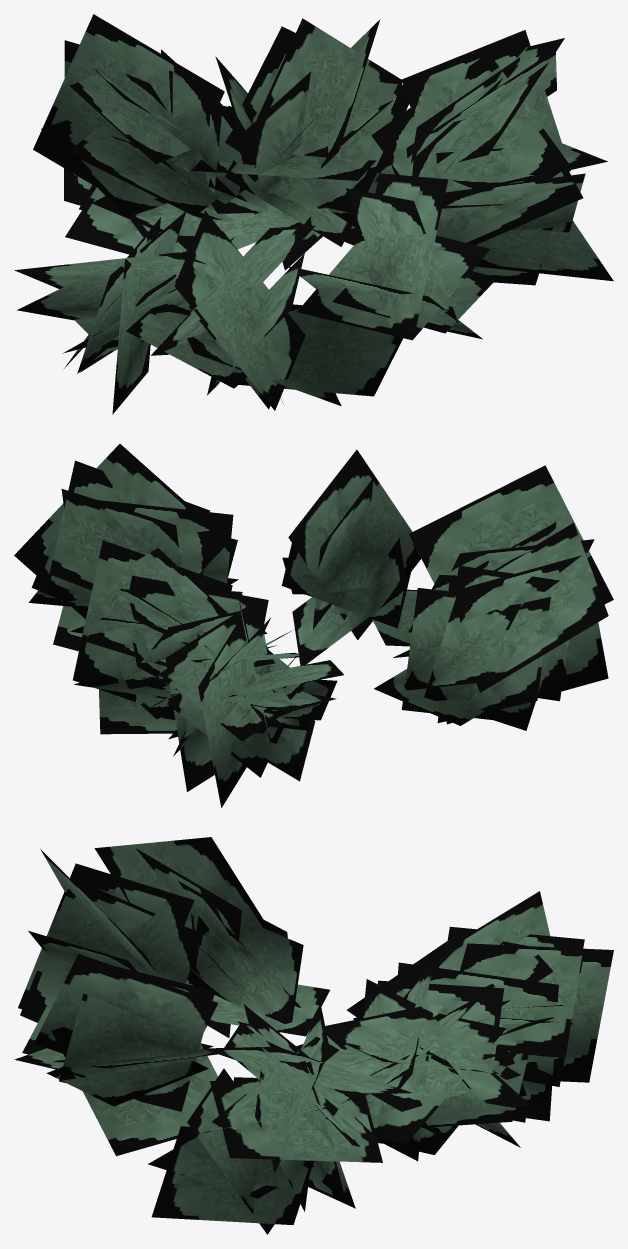
Rendered from juniper_2_mid.glb.
3 renders of one model, top to bottom at view 1: azimuth 30°, elevation 25°; view 2: azimuth 150°, elevation 25°; view 3: azimuth 270°, elevation 25°, orthographic. The views are drawn at different scales.
Parts seen in each view (by area): view 1: juniper_2_mid; view 2: juniper_2_mid; view 3: juniper_2_mid.
Boxes of the visible parts, box(x1,y1,x2,y2) form: juniper_2_mid: box(14, 14, 613, 414); juniper_2_mid: box(14, 444, 613, 807); juniper_2_mid: box(14, 837, 613, 1234).
Size of the model in its own units: 3.91 by 1.38 by 3.49.
Materials: 1 (1 with a texture image).
